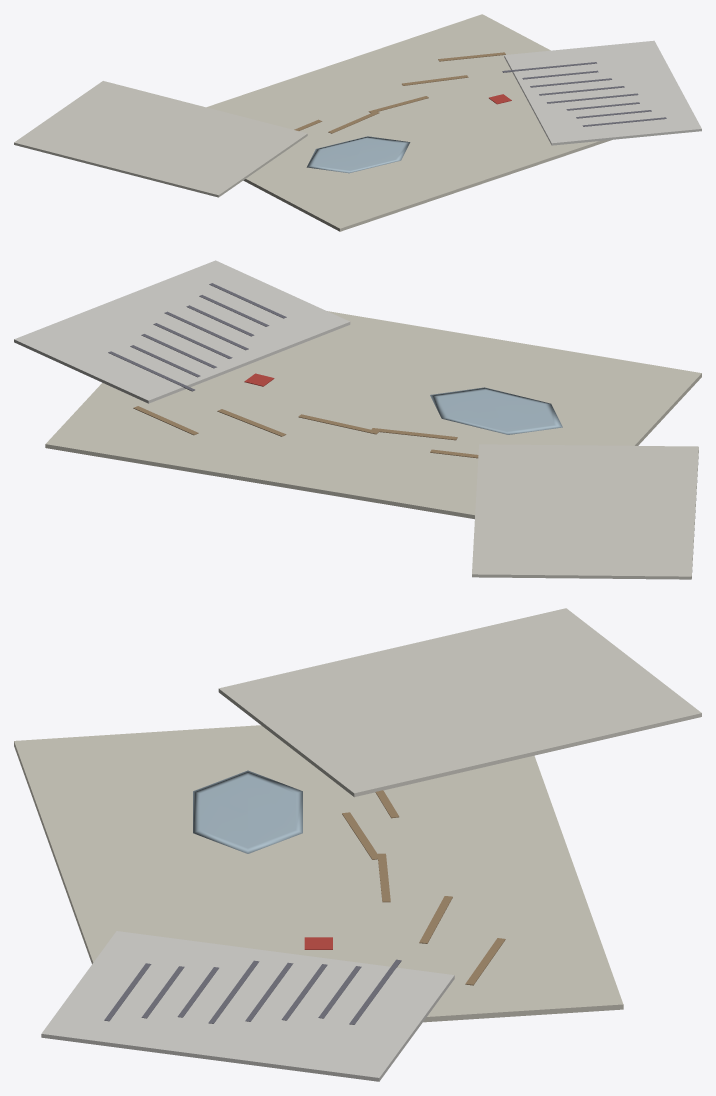
File: camp_paper_a.glb
3 views of the same model, one above another, from view 1: azimuth 30°, elevation 25°; view 2: azimuth 150°, elevation 25°; view 3: azimuth 270°, elevation 25° (orthographic). The views are drawn at different scales.
Visible parts, largest first — view 1: body; view 2: body; view 3: body.
Boxes of the visible parts, x1,y1,x2,y2 form: body: (14, 14, 701, 231); body: (14, 260, 701, 579); body: (14, 608, 701, 1081).
Size of the model in its own units: 0.7878 by 0.0088 by 0.4861.
